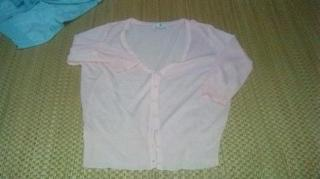long sleeve top: (67, 18, 253, 172)
